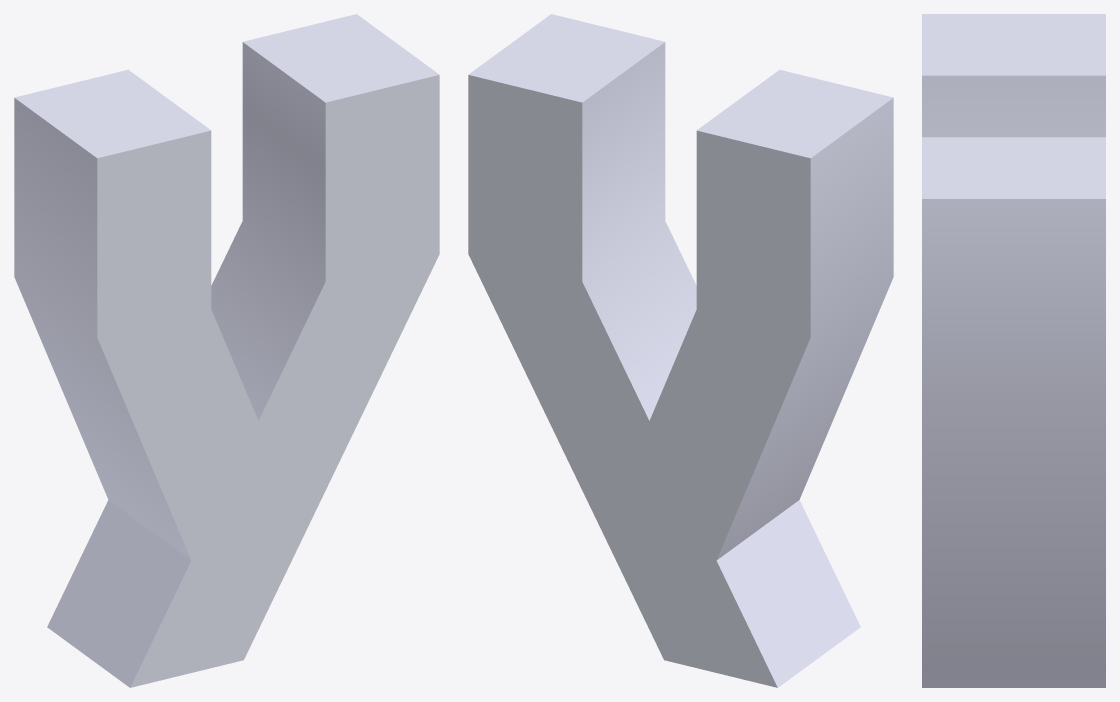
File: Y_DeltaBlock_Grey.glb
3 renders of one model, left to right at view 1: azimuth 30°, elevation 25°; view 2: azimuth 150°, elevation 25°; view 3: azimuth 270°, elevation 25°, orthographic. The views are drawn at different scales.
Visible parts, largest first — view 1: y_DeltaBlock_Grey; view 2: y_DeltaBlock_Grey; view 3: y_DeltaBlock_Grey.
Part boxes in pixels (x1,y1,x2,y2): y_DeltaBlock_Grey: (14,14,439,687); y_DeltaBlock_Grey: (468,14,893,687); y_DeltaBlock_Grey: (922,14,1105,687).
Size of what is drawn, in the model's own units: 0.1071 by 0.1607 by 0.045.
Materials: 2 (2 with a texture image).
